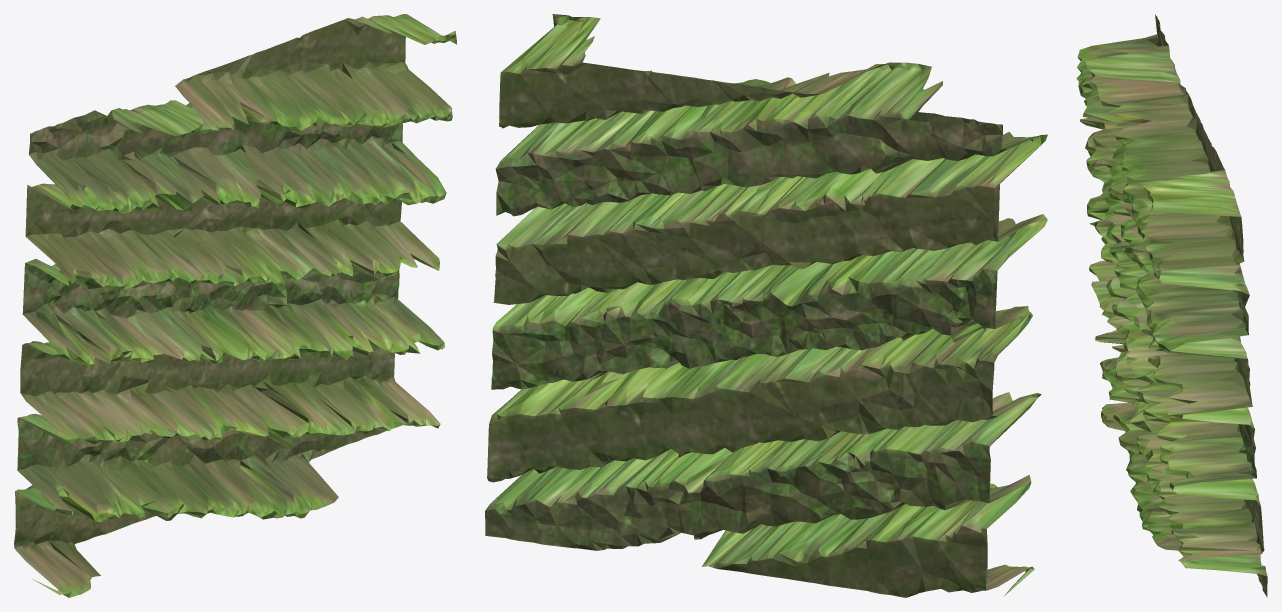
File: map_210_0.obj
The picture shows the model from 3 angles, left to right: view 1: azimuth 30°, elevation 25°; view 2: azimuth 150°, elevation 25°; view 3: azimuth 270°, elevation 25°; orthographic projection. The views are drawn at different scales.
Parts seen in each view (by area): view 1: grp1; view 2: grp1; view 3: grp1.
Part boxes in pixels (x1,y1,x2,y2): grp1: [14, 14, 456, 597]; grp1: [485, 14, 1047, 597]; grp1: [1076, 14, 1267, 597].
Size of the model in its own units: 10 by 10 by 4.36.
Materials: 1 (1 with a texture image).
